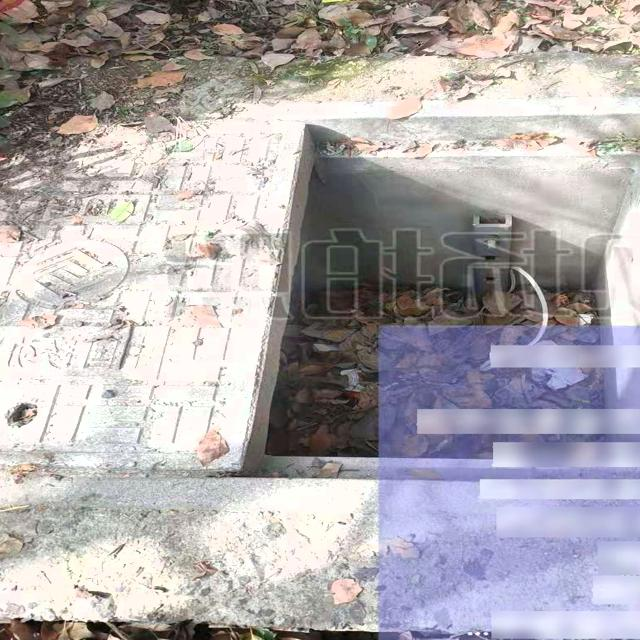lose: (0, 83, 640, 584)
